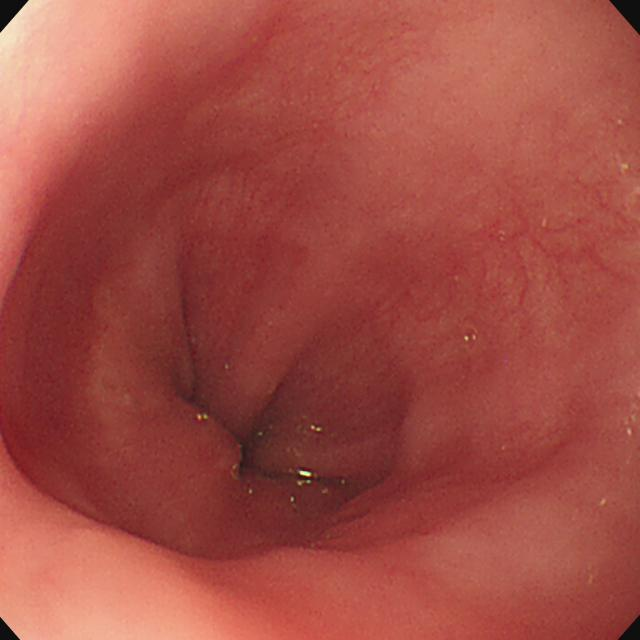I: (104, 194, 350, 533)
U: (300, 470, 315, 480)
